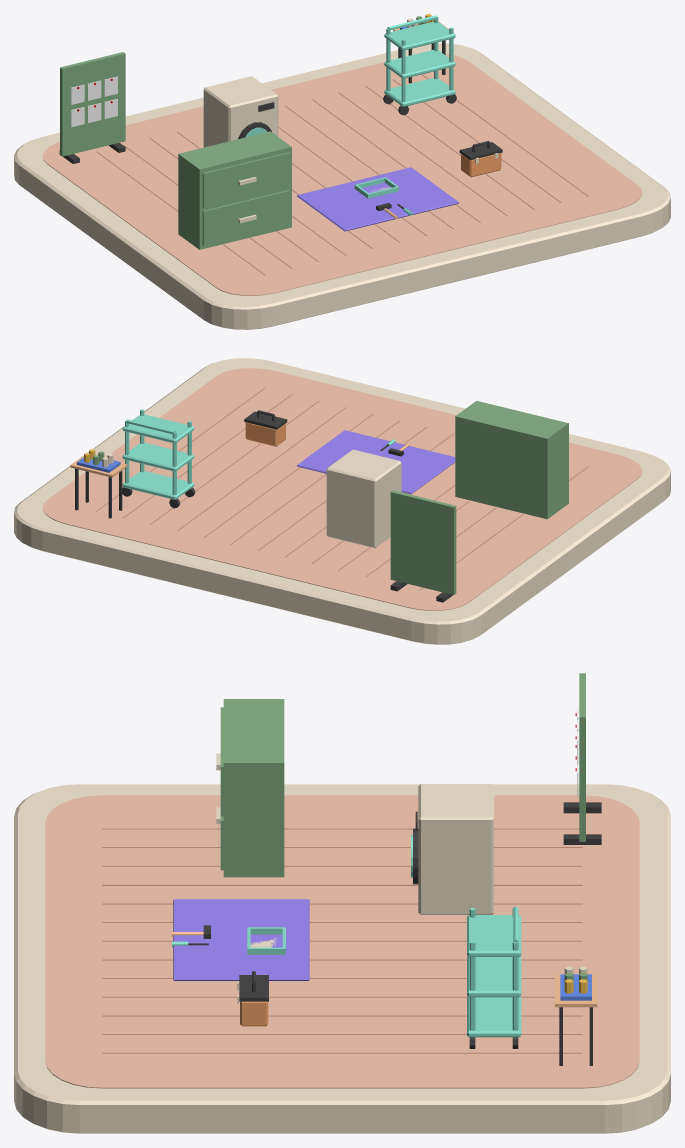
Rendered from room.fbx.
The picture shows the model from 3 angles, top to bottom: view 1: azimuth 30°, elevation 25°; view 2: azimuth 150°, elevation 25°; view 3: azimuth 270°, elevation 25°; orthographic projection. The views are drawn at different scales.
Parts seen in each view (by area): view 1: COM-02 Floor Surface, COM-01 Rounded Base Direct, Cabinet, Rug, Panel, Washing machine, Tray.002, Tray.001, Tray, Box; view 2: COM-02 Floor Surface, COM-01 Rounded Base Direct, Cabinet, Panel, Washing machine, Rug, Tray, Tray.001, Tray.002, Box, Lid; view 3: COM-02 Floor Surface, COM-01 Rounded Base Direct, Cabinet, Rug, Washing machine, Tray.002, Tray, Tray.001, Panel, Plank seam.012, Plank seam.003, Plank seam.010 (+5 smaller).
Boxes of the visible parts, <box> form: COM-02 Floor Surface: <box>42,54,642,295</box>; COM-01 Rounded Base Direct: <box>14,43,670,329</box>; Cabinet: <box>178,131,291,249</box>; Rug: <box>297,167,458,231</box>; Panel: <box>60,52,125,156</box>; Washing machine: <box>203,76,278,147</box>; Tray.002: <box>384,21,455,50</box>; Tray.001: <box>384,49,455,78</box>; Tray: <box>384,78,455,106</box>; Box: <box>461,153,501,177</box>; COM-02 Floor Surface: <box>42,368,642,610</box>; COM-01 Rounded Base Direct: <box>14,358,670,644</box>; Cabinet: <box>455,400,568,519</box>; Panel: <box>390,490,456,594</box>; Washing machine: <box>326,449,401,548</box>; Rug: <box>297,430,455,494</box>; Tray: <box>122,471,194,499</box>; Tray.001: <box>122,442,194,471</box>; Tray.002: <box>122,414,194,443</box>; Box: <box>245,422,285,446</box>; Lid: <box>244,411,287,429</box>; COM-02 Floor Surface: <box>45,795,639,1088</box>; COM-01 Rounded Base Direct: <box>14,784,670,1133</box>; Cabinet: <box>216,699,284,877</box>; Rug: <box>173,899,309,980</box>; Washing machine: <box>418,784,493,914</box>; Tray.002: <box>467,915,521,956</box>; Tray: <box>467,996,521,1037</box>; Tray.001: <box>467,956,521,997</box>; Panel: <box>579,673,585,841</box>; Plank seam.012: <box>102,1052,582,1053</box>; Plank seam.003: <box>102,884,582,885</box>; Plank seam.010: <box>102,1015,582,1016</box>.
Size of the model in its own units: 600 by 144 by 520.
